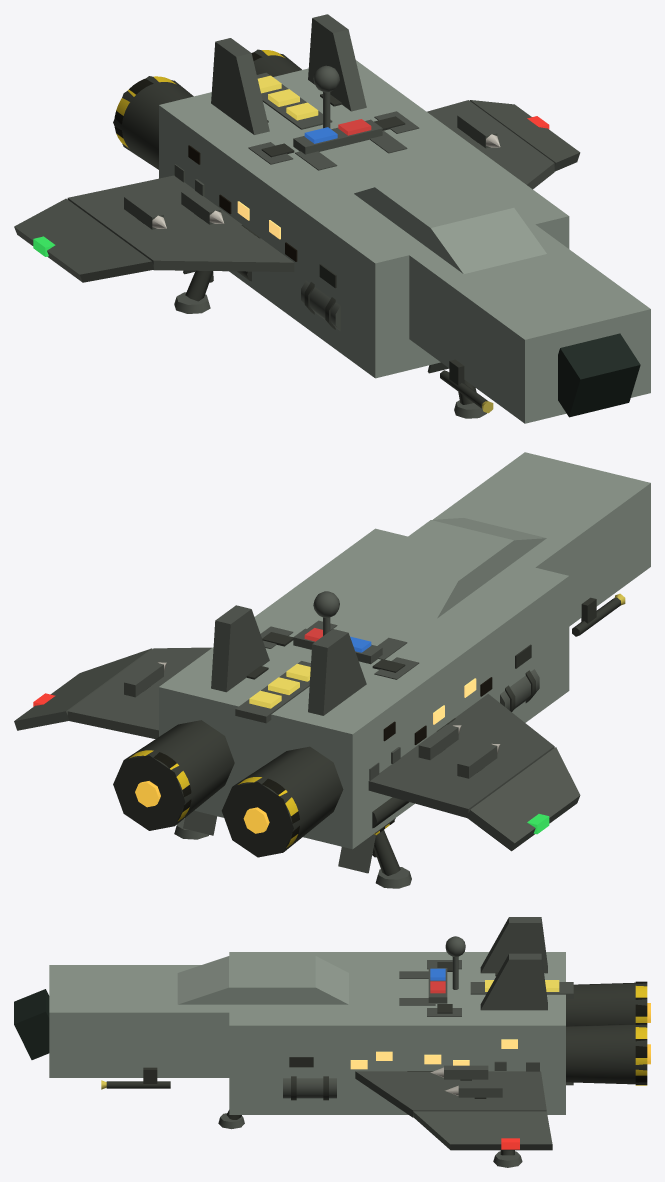
The model's file is police-l.glb.
3 renders of one model, top to bottom at view 1: azimuth 30°, elevation 25°; view 2: azimuth 150°, elevation 25°; view 3: azimuth 270°, elevation 25°, orthographic. The views are drawn at different scales.
Visible parts, largest first — view 1: hullMain, hullNose, canopyFairing, wingInnerLeft, wingOuterLeft, cockpitGlass, engineHousing (×2), stabilizerFinL, wingInnerRight, stabilizerFinR, wingOuterRight, missileBody (×3) (+3 smaller); view 2: hullMain, hullNose, engineHousing (×2), canopyFairing, wingInnerLeft, wingOuterLeft, wingInnerRight, stabilizerFinL, stabilizerFinR, wingOuterRight, missileBody (×3), gearBayDoor (×2) (+4 smaller); view 3: hullMain, hullNose, canopyFairing, engineHousing (×2), wingInnerRight, wingOuterRight, stabilizerFinR, stabilizerFinL, cockpitGlass, missileBody (×2), policeShipPropellantTankR, laserBarrel (+2 smaller).
Part boxes in pixels (bbox=[...]): hullMain: bbox=[159, 60, 569, 378]; hullNose: bbox=[400, 224, 650, 423]; canopyFairing: bbox=[354, 167, 546, 273]; wingInnerLeft: bbox=[67, 175, 294, 271]; wingOuterLeft: bbox=[14, 198, 153, 282]; cockpitGlass: bbox=[558, 333, 640, 417]; engineHousing (×2): bbox=[113, 49, 301, 169]; stabilizerFinL: bbox=[211, 38, 269, 134]; wingInnerRight: bbox=[427, 100, 554, 189]; stabilizerFinR: bbox=[308, 14, 366, 111]; wingOuterRight: bbox=[470, 100, 580, 171]; missileBody (×3): bbox=[124, 112, 497, 229]; hullMain: bbox=[159, 528, 569, 849]; hullNose: bbox=[433, 452, 650, 626]; engineHousing (×2): bbox=[113, 720, 343, 857]; canopyFairing: bbox=[353, 518, 546, 618]; wingInnerLeft: bbox=[368, 694, 554, 817]; wingOuterLeft: bbox=[467, 747, 580, 851]; wingInnerRight: bbox=[67, 647, 211, 738]; stabilizerFinL: bbox=[308, 629, 366, 715]; stabilizerFinR: bbox=[211, 605, 269, 692]; wingOuterRight: bbox=[14, 648, 152, 730]; missileBody (×3): bbox=[124, 661, 497, 778]; gearBayDoor (×2): bbox=[183, 810, 375, 873]; hullMain: bbox=[229, 952, 565, 1114]; hullNose: bbox=[49, 965, 246, 1077]; canopyFairing: bbox=[177, 956, 348, 1004]; engineHousing (×2): bbox=[566, 982, 647, 1084]; wingInnerRight: bbox=[355, 1071, 546, 1117]; wingOuterRight: bbox=[413, 1111, 552, 1150]; stabilizerFinR: bbox=[480, 953, 547, 1010]; stabilizerFinL: bbox=[480, 917, 547, 973]; cockpitGlass: bbox=[14, 989, 49, 1059]; missileBody (×2): bbox=[444, 1065, 502, 1097]; policeShipPropellantTankR: bbox=[283, 1078, 336, 1098]; laserBarrel: bbox=[106, 1081, 170, 1088].
Bounding box in the file's own units: 3.9 × 1.77 × 5.49.
